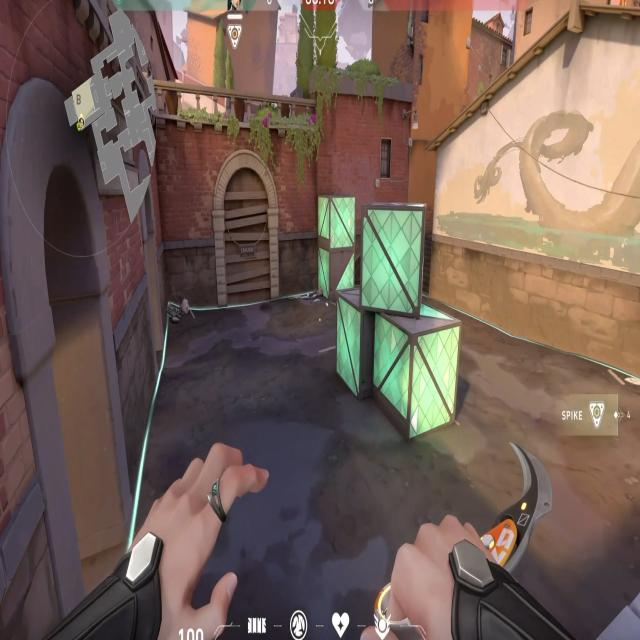B_Site_Box: (361, 202, 455, 446)
